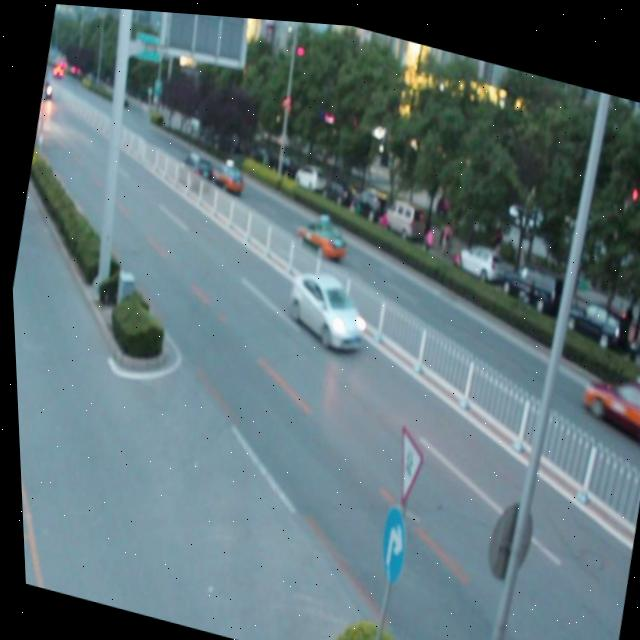car: (280, 263, 370, 347), (573, 357, 640, 432), (288, 207, 347, 255), (171, 147, 214, 189), (207, 157, 244, 191)
